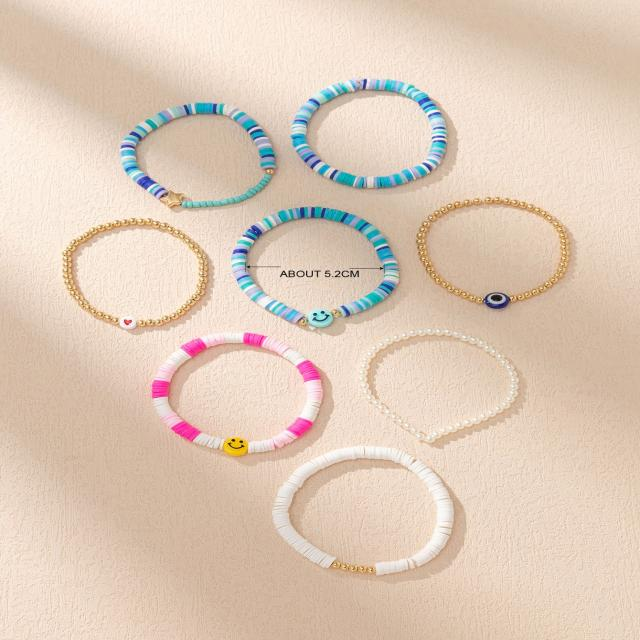bracelet: (264, 433, 514, 601), (352, 311, 566, 498), (86, 40, 302, 224), (125, 308, 342, 467), (214, 181, 396, 344), (402, 180, 602, 328), (269, 57, 461, 202), (51, 197, 228, 343)
